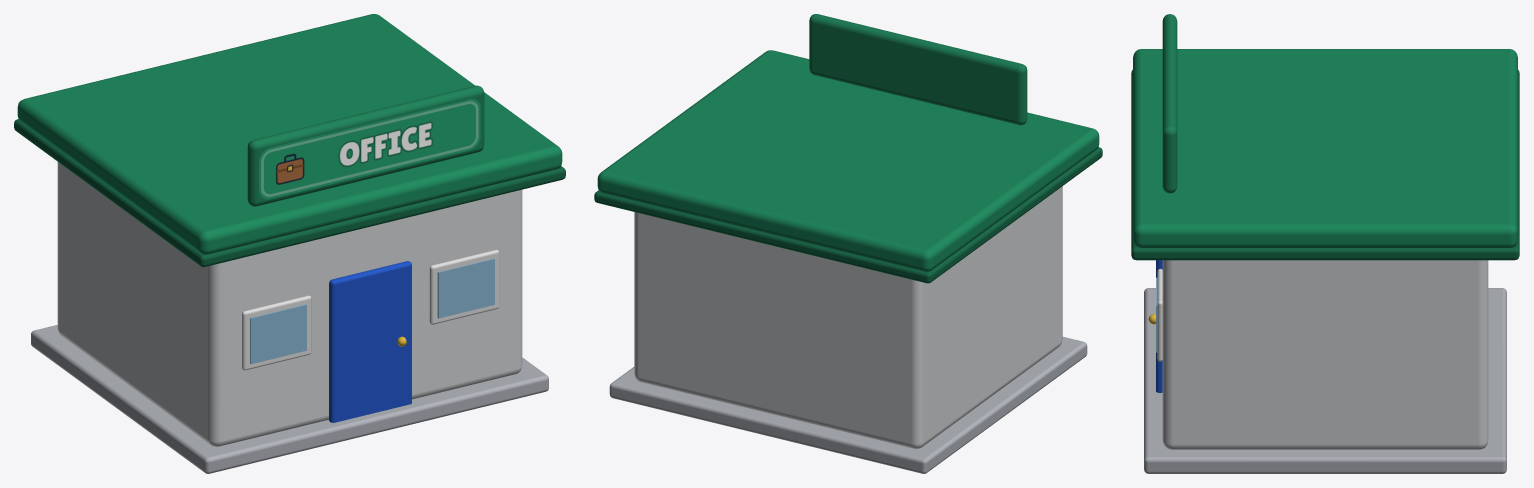
Rendered from office.glb.
3 views of the same model, side by side, from view 1: azimuth 30°, elevation 25°; view 2: azimuth 150°, elevation 25°; view 3: azimuth 270°, elevation 25° (orthographic). The views are drawn at different scales.
Parts seen in each view (by area): view 1: Office; view 2: Office; view 3: Office.
Boxes of the visible parts, left/top/right/bottom form: Office: left=14, top=14, right=565, bottom=473; Office: left=594, top=14, right=1102, bottom=473; Office: left=1131, top=14, right=1519, bottom=473.
Bounding box in the file's own units: 5.84 × 4.75 × 5.24.
3 materials, 1 textured.
